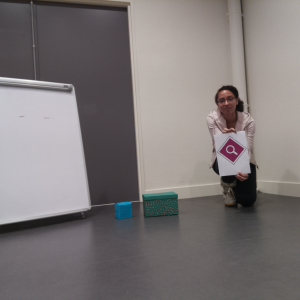big: (1, 78, 92, 227)
small: (142, 192, 179, 218), (114, 201, 134, 219)
